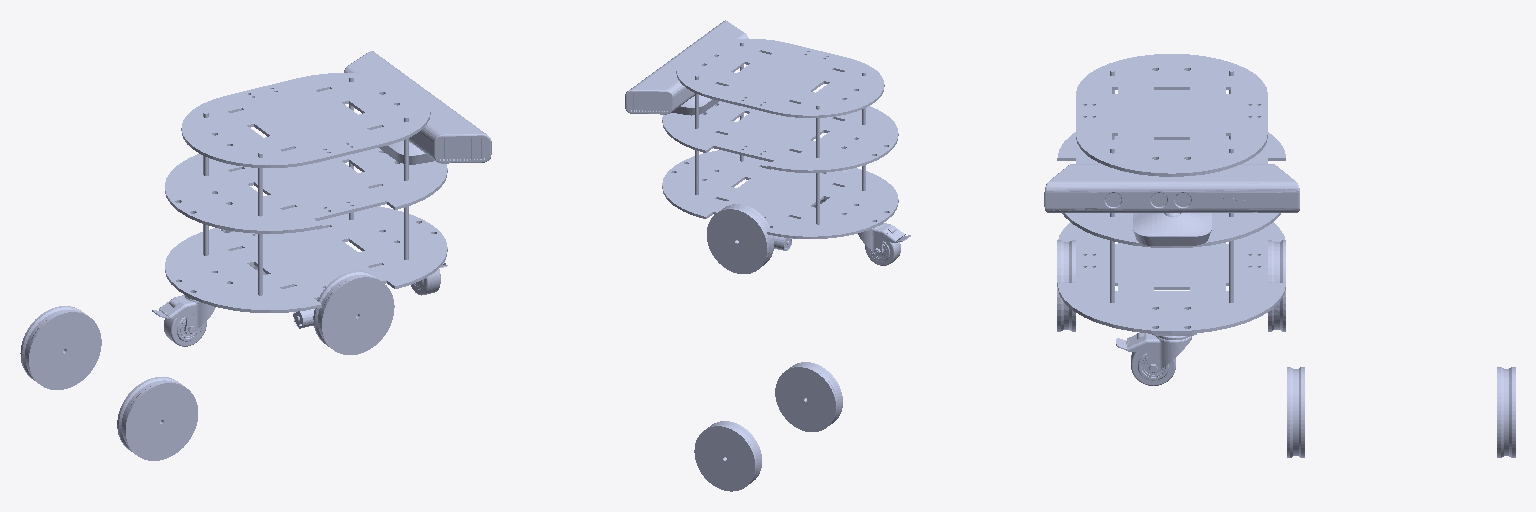
robot.urdf — robotbase_description:
<?xml version="1.0" encoding="utf-8"?>
<!-- This URDF was automatically created by SolidWorks to URDF Exporter! Originally created by [author] ([email redacted]) 
     Commit Version: 1.6.0-4-g7f85cfe  Build Version: 1.6.7995.38578
     For more information, please see http://wiki.ros.org/sw_urdf_exporter -->
<robot
  name="robotbase_description">
  <link
    name="base_link">
    <inertial>
      <origin
        xyz="-0.054826 0.00057958 0.098078"
        rpy="0 0 0" />
      <mass
        value="1.694" />
      <inertia
        ixx="0.0059056"
        ixy="-9.3677E-07"
        ixz="2.9127E-06"
        iyy="0.0064323"
        iyz="2.7055E-06"
        izz="0.012007" />
    </inertial>
    <visual>
      <origin
        xyz="0 0 0"
        rpy="0 0 0" />
      <geometry>
        <mesh
          filename="package://robotbase_description/meshes/base_link.STL" />
      </geometry>
      <material
        name="">
        <color
          rgba="0.79216 0.81961 0.93333 1" />
      </material>
    </visual>
    <collision>
      <origin
        xyz="0 0 0"
        rpy="0 0 0" />
      <geometry>
        <mesh
          filename="package://robotbase_description/meshes/base_link.STL" />
      </geometry>
    </collision>
  </link>
  <link
    name="link_left">
    <inertial>
      <origin
        xyz="0 0 -0.01"
        rpy="0 0 0" />
      <mass
        value="0.15096" />
      <inertia
        ixx="9.6648E-05"
        ixy="1.0519E-21"
        ixz="1.0764E-21"
        iyy="9.6648E-05"
        iyz="3.3501E-23"
        izz="0.00018295" />
    </inertial>
    <visual>
      <origin
        xyz="0 0 0"
        rpy="0 0 0" />
      <geometry>
        <mesh
          filename="package://robotbase_description/meshes/link_left.STL" />
      </geometry>
      <material
        name="">
        <color
          rgba="0.79216 0.81961 0.93333 1" />
      </material>
    </visual>
    <collision>
      <origin
        xyz="0 0 0"
        rpy="0 0 0" />
      <geometry>
        <mesh
          filename="package://robotbase_description/meshes/link_left.STL" />
      </geometry>
    </collision>
  </link>
  <joint
    name="joint_left"
    type="continuous">
    <origin
      xyz="0.000764 0.125 -0.0232"
      rpy="1.5708 0 3.1416" />
    <parent
      link="base_link" />
    <child
      link="link_left" />
    <axis
      xyz="0 0 -1" />
    <limit
      effort="2"
      velocity="0.5" />
  </joint>
  <link
    name="link_right">
    <inertial>
      <origin
        xyz="0 0 -0.01"
        rpy="0 0 0" />
      <mass
        value="0.15096" />
      <inertia
        ixx="9.6648E-05"
        ixy="-1.0519E-21"
        ixz="-5.294E-23"
        iyy="9.6648E-05"
        iyz="-3.3501E-23"
        izz="0.00018295" />
    </inertial>
    <visual>
      <origin
        xyz="0 0 0"
        rpy="0 0 0" />
      <geometry>
        <mesh
          filename="package://robotbase_description/meshes/link_right.STL" />
      </geometry>
      <material
        name="">
        <color
          rgba="0.79216 0.81961 0.93333 1" />
      </material>
    </visual>
    <collision>
      <origin
        xyz="0 0 0"
        rpy="0 0 0" />
      <geometry>
        <mesh
          filename="package://robotbase_description/meshes/link_right.STL" />
      </geometry>
    </collision>
  </link>
  <joint
    name="joint_right"
    type="continuous">
    <origin
      xyz="0.000764 -0.125 -0.0232"
      rpy="1.5708 0 0" />
    <parent
      link="base_link" />
    <child
      link="link_right" />
    <axis
      xyz="0 0 -1" />
    <limit
      effort="2"
      velocity="0.5" />
  </joint>
</robot>

--- Facts derived from the render (not from the file) ---
Views: 3 orthographic renders of the robot side by side, from view 1: azimuth 30°, elevation 25°; view 2: azimuth 150°, elevation 25°; view 3: azimuth 270°, elevation 25°.
Robot: robotbase_description — 3 links, 2 joints (2 continuous); root link base_link; default pose: all joints at 0.
Visible links, largest first — view 1: base_link, link_right, link_left; view 2: base_link, link_left, link_right; view 3: base_link, link_left, link_right.
Link boxes in pixels (x1,y1,x2,y2): base_link: (152,51,491,354); link_right: (117,377,197,460); link_left: (20,306,101,389); base_link: (625,20,910,273); link_left: (694,421,761,491); link_right: (775,362,842,431); base_link: (1044,54,1299,385); link_left: (1497,367,1515,457); link_right: (1287,367,1304,457).
Bounding box of the posed robot: 0.3909 × 0.5146 × 0.474 m (x, y, z).
3 mesh visuals loaded from 3 distinct referenced files (3 binary STL).